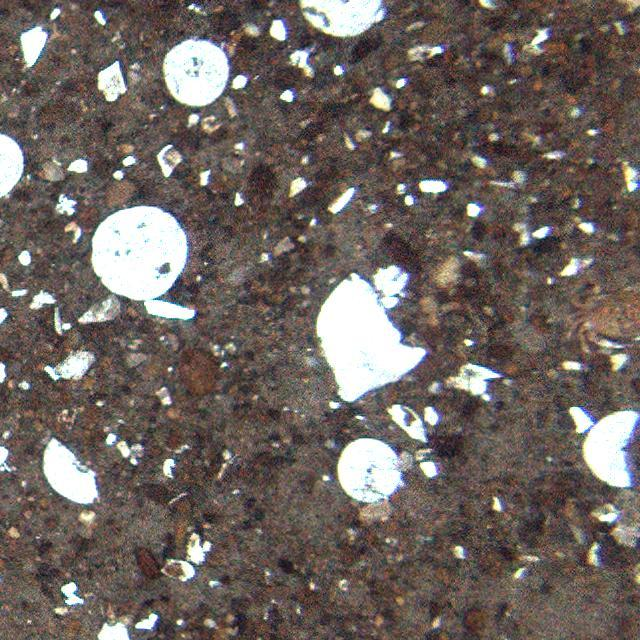crab: (561, 288, 640, 351)
